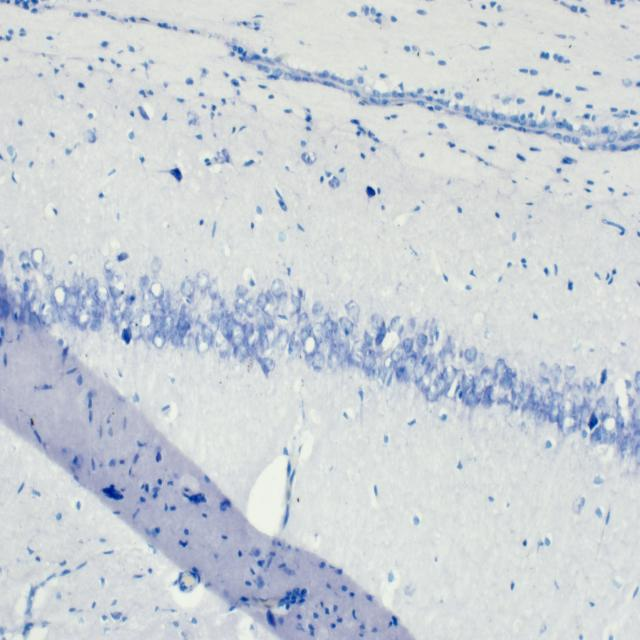neuron: (139, 310, 155, 343), (128, 312, 146, 341), (334, 327, 350, 355), (230, 322, 246, 348), (403, 354, 417, 383), (328, 343, 342, 371), (195, 332, 210, 357), (465, 386, 482, 408), (302, 334, 318, 357), (25, 276, 38, 304), (40, 300, 54, 326), (220, 313, 234, 339), (258, 326, 270, 356), (414, 358, 429, 382), (246, 323, 259, 350), (108, 281, 126, 300), (312, 322, 328, 343), (286, 310, 300, 334), (345, 300, 360, 322), (432, 374, 447, 396), (28, 289, 42, 312), (91, 301, 105, 324), (82, 295, 97, 316), (11, 303, 24, 327), (211, 296, 224, 320), (53, 285, 67, 307), (276, 329, 290, 351), (562, 415, 578, 434), (234, 342, 249, 362), (339, 316, 354, 336), (383, 356, 395, 381), (352, 340, 365, 363), (231, 311, 249, 327), (41, 258, 54, 280), (196, 270, 209, 292), (442, 365, 457, 384), (177, 317, 190, 338), (207, 313, 220, 334), (142, 292, 157, 310), (95, 285, 109, 304), (110, 307, 124, 326), (150, 281, 164, 300), (234, 297, 248, 316), (472, 376, 486, 395), (170, 326, 182, 348), (427, 364, 439, 386), (28, 312, 41, 332), (245, 298, 258, 318), (312, 352, 325, 372), (480, 366, 493, 386), (32, 247, 44, 268), (152, 331, 166, 349), (391, 344, 404, 363), (208, 278, 219, 300), (180, 328, 192, 348), (494, 358, 506, 378), (10, 290, 24, 307), (312, 300, 326, 317), (499, 374, 513, 391), (181, 278, 194, 296), (180, 304, 193, 322), (271, 278, 284, 296), (371, 312, 384, 330), (531, 385, 544, 403), (67, 287, 79, 306), (201, 324, 213, 343), (473, 352, 485, 371), (390, 316, 404, 332), (464, 346, 478, 362), (426, 384, 439, 401), (59, 308, 70, 328), (123, 306, 134, 326), (364, 349, 375, 369), (78, 311, 90, 329), (162, 315, 174, 333), (256, 293, 268, 311), (561, 399, 573, 417), (125, 287, 136, 306), (323, 319, 334, 338), (549, 404, 560, 423), (300, 325, 312, 342), (158, 297, 172, 311), (235, 284, 249, 298), (549, 392, 563, 406), (24, 301, 32, 325), (550, 363, 562, 379), (290, 330, 300, 349), (75, 268, 84, 289), (616, 412, 625, 433), (263, 313, 274, 330), (298, 312, 309, 329), (402, 337, 413, 354), (513, 377, 524, 394), (262, 357, 275, 371), (104, 259, 116, 274), (152, 256, 162, 274), (256, 310, 266, 328), (219, 339, 228, 359), (596, 396, 606, 414), (19, 250, 30, 266), (91, 317, 102, 333), (139, 275, 149, 292), (278, 292, 288, 309), (87, 277, 99, 291), (462, 374, 474, 388), (564, 365, 576, 379), (396, 365, 405, 383), (265, 290, 275, 306), (291, 294, 301, 310), (417, 332, 427, 348), (534, 411, 546, 424), (187, 331, 195, 350), (430, 318, 438, 337), (582, 405, 590, 424), (67, 284, 82, 294), (64, 304, 76, 316), (155, 315, 164, 331), (167, 309, 178, 322), (406, 320, 416, 334), (543, 398, 552, 413), (3, 299, 10, 318), (85, 285, 97, 296), (0, 272, 7, 290), (152, 308, 166, 317), (444, 339, 452, 354), (62, 278, 71, 291), (524, 382, 532, 396), (73, 272, 79, 289), (563, 382, 571, 393), (546, 388, 554, 398), (106, 273, 114, 282), (438, 349, 446, 358)
